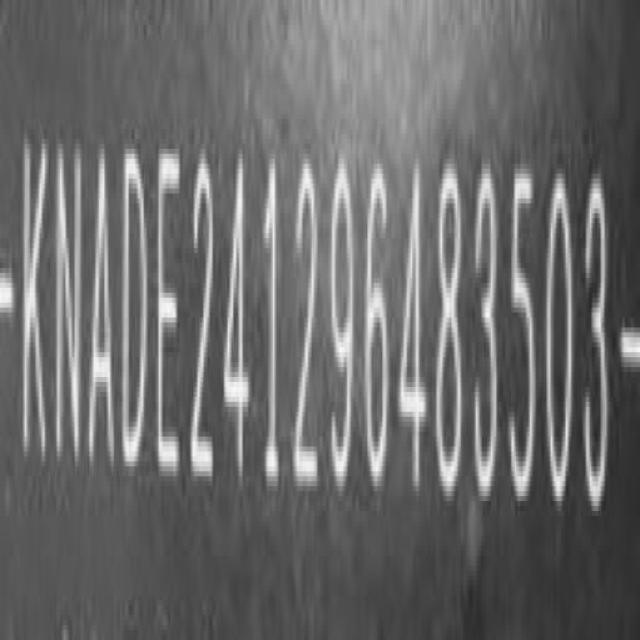0: (546, 169, 578, 514)
1: (260, 151, 284, 499)
2: (294, 147, 324, 504), (189, 145, 219, 495)
3: (584, 176, 615, 518), (475, 162, 502, 507)
4: (398, 156, 432, 506), (220, 147, 253, 496)
5: (509, 160, 538, 510)
6: (363, 157, 393, 503)
8: (434, 157, 466, 507)
9: (329, 157, 360, 503)
A: (89, 138, 120, 484)
D: (118, 142, 152, 472)
E: (155, 147, 184, 491)
K: (19, 128, 49, 474)
N: (49, 133, 84, 482)
